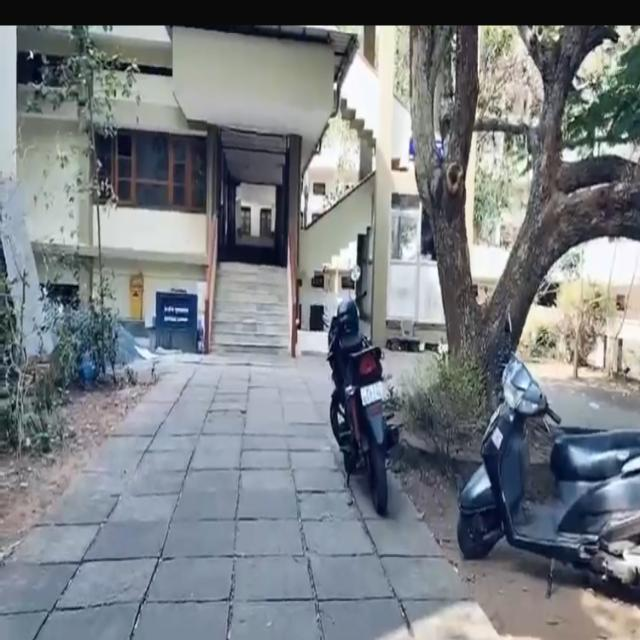motorcycle ahead at: (457, 309, 640, 602), (318, 265, 389, 515)
plant ahead at: (0, 265, 60, 468)
